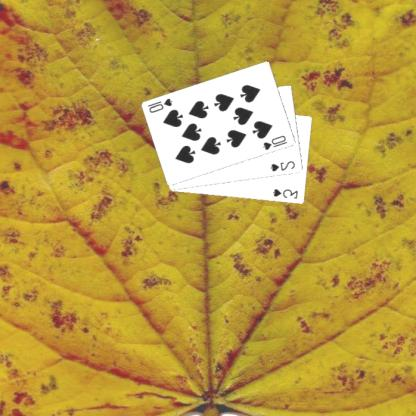10S: (262, 133, 291, 151), (147, 96, 176, 114)
2S: (269, 158, 298, 173)
3S: (272, 187, 301, 200)
